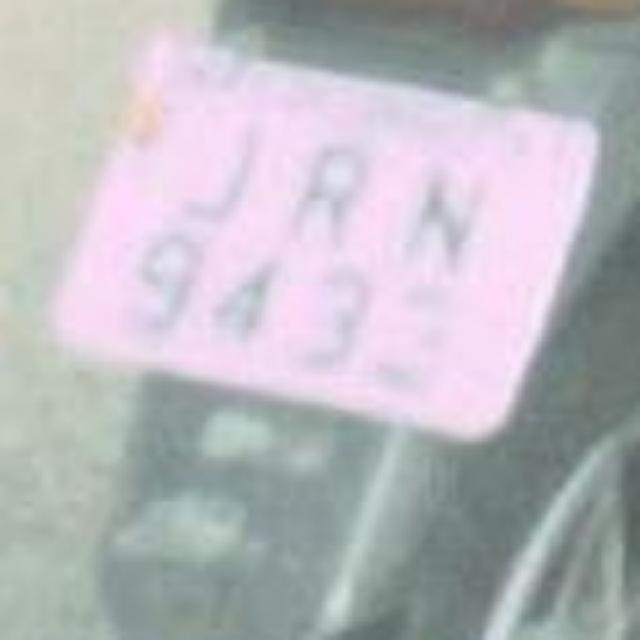4: (196, 232, 292, 360)
5: (372, 268, 476, 392)
9: (108, 212, 220, 348)
B: (380, 144, 500, 284), (268, 128, 388, 260)
J: (156, 91, 272, 224)
